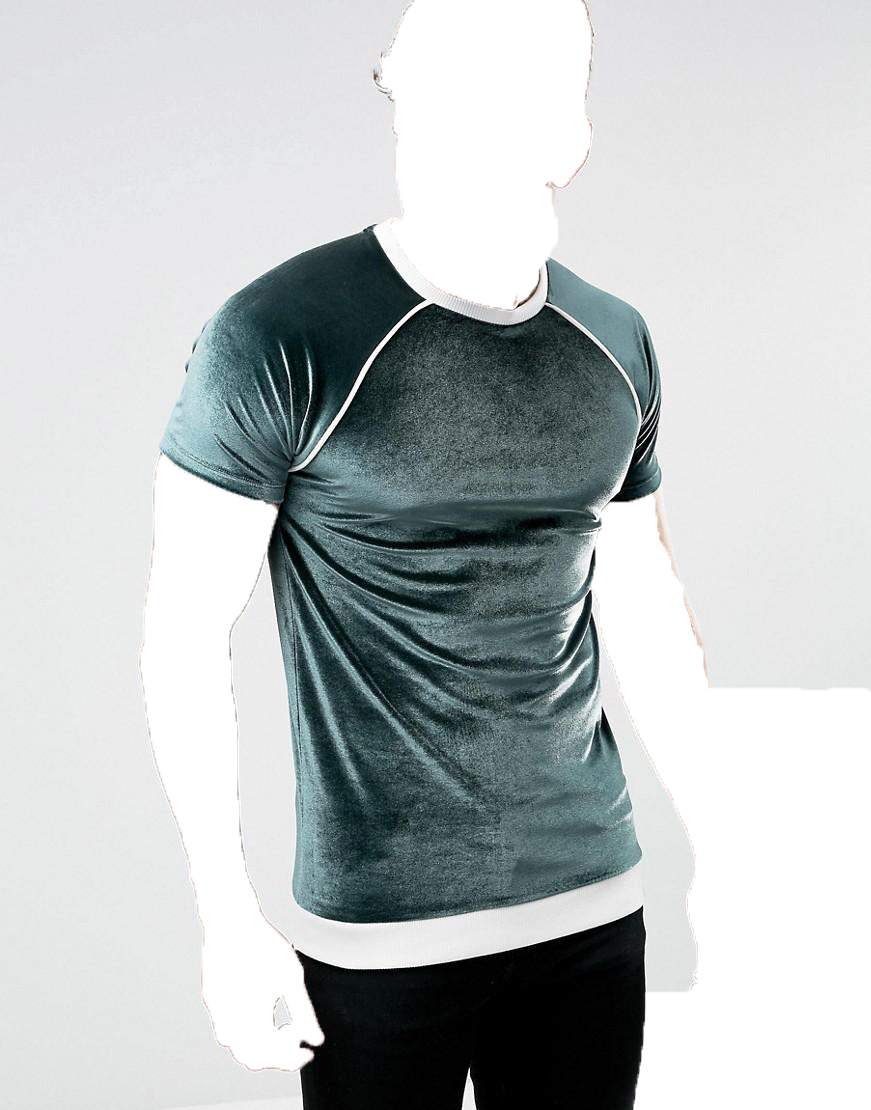teeshirt: (157, 213, 720, 949)
